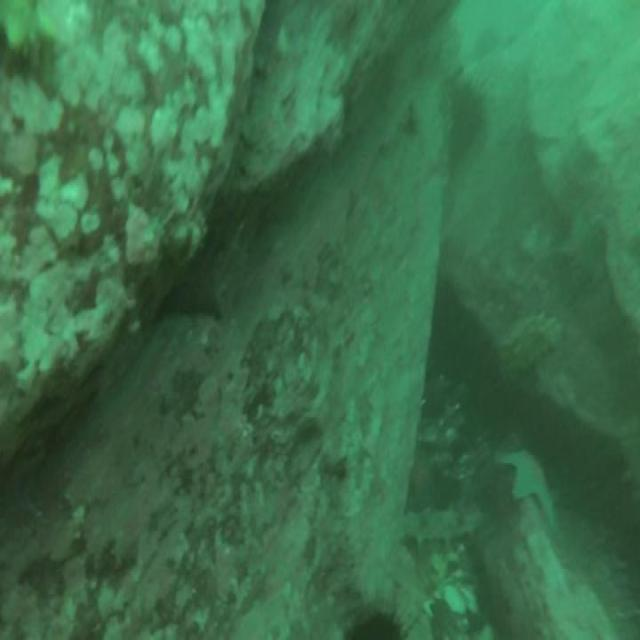echinus: (338, 586, 421, 640), (447, 71, 489, 166)
holothurian: (488, 305, 564, 386), (399, 502, 484, 550), (617, 417, 640, 531)
starfish: (495, 438, 558, 526)
